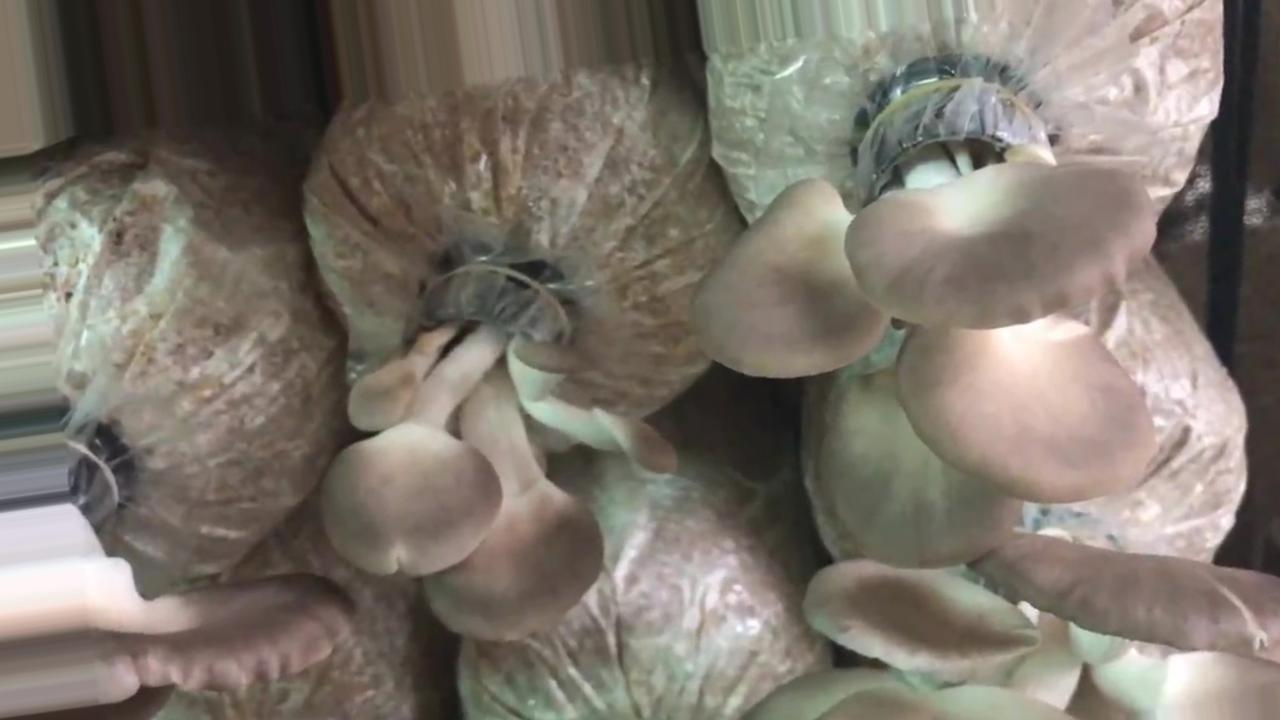nam: (696, 84, 1149, 564), (326, 255, 675, 631), (1, 425, 343, 709), (752, 564, 1280, 720)
